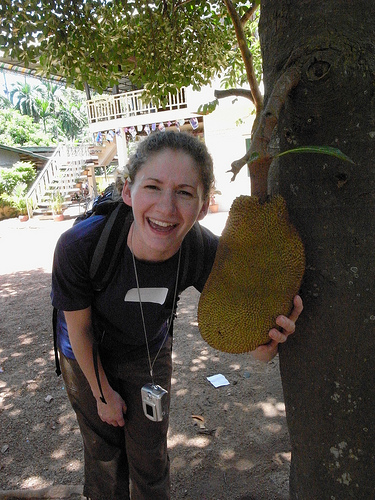jackfruit: (196, 196, 301, 352)
